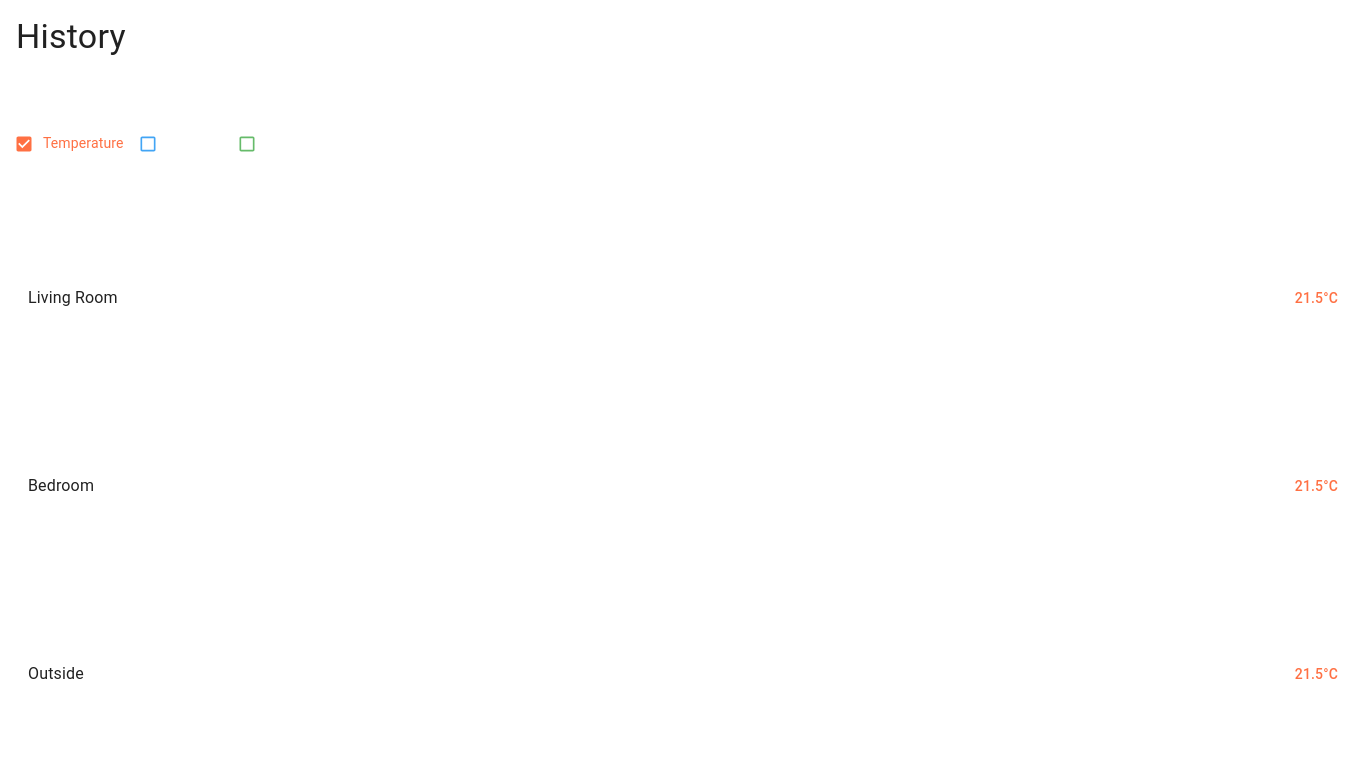
Test: HistoryScreen › Detail Chart › should show detail chart when sensor is selected
The image size is (1366, 768).
Click the button "Living Room 21.5°C" at (683, 298), box [16, 204, 1350, 392]
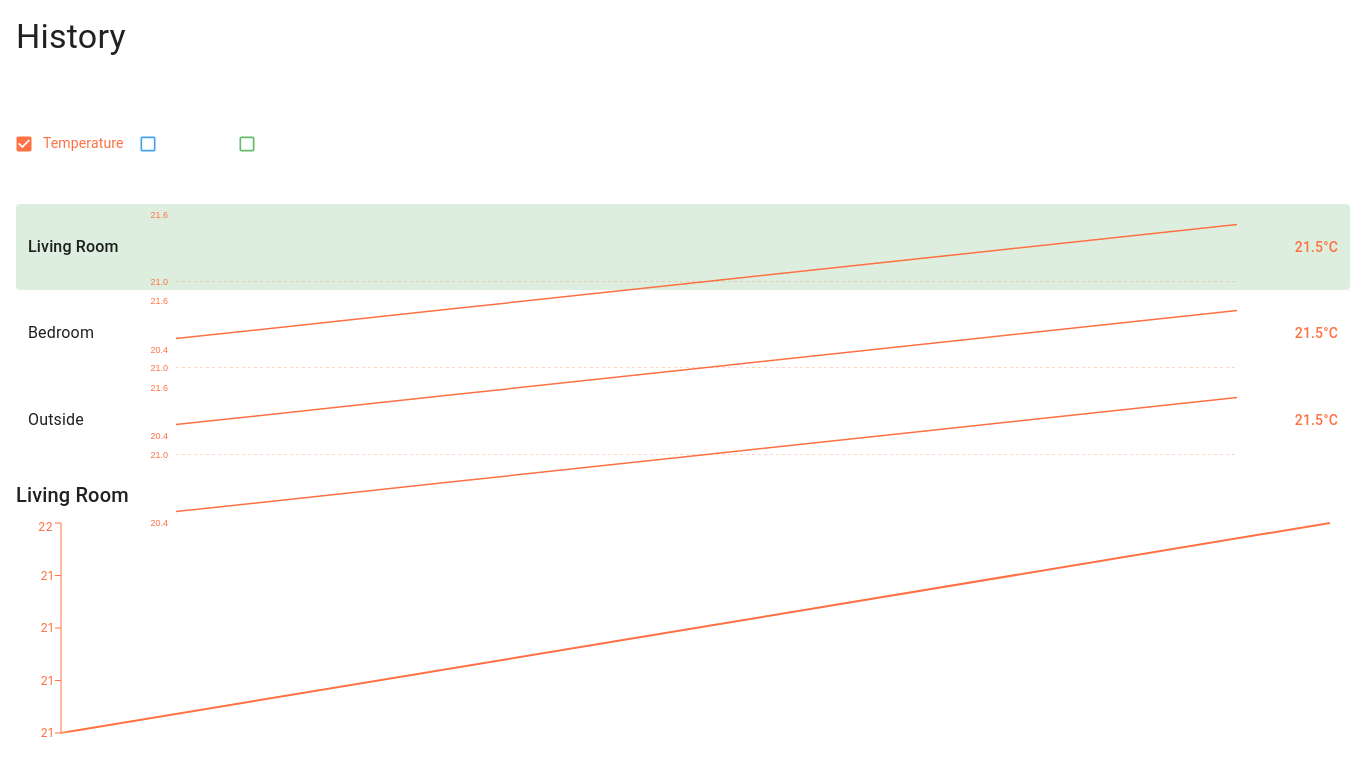
Check: the element with test id "detail-chart-wrapper" is shown, box [16, 518, 1350, 767]
